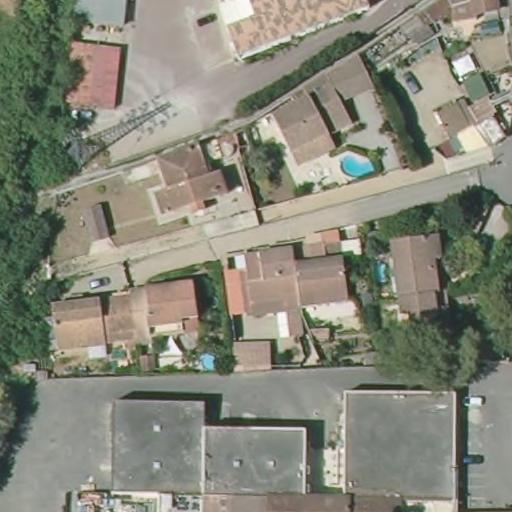pool: (331, 150, 380, 178), (370, 261, 394, 287), (195, 352, 220, 375)
